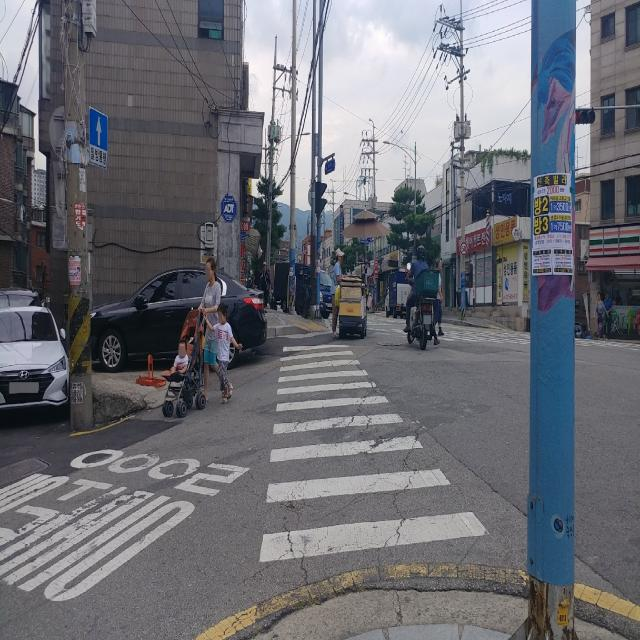횡단보도: (258, 344, 491, 565), (452, 328, 519, 341)
